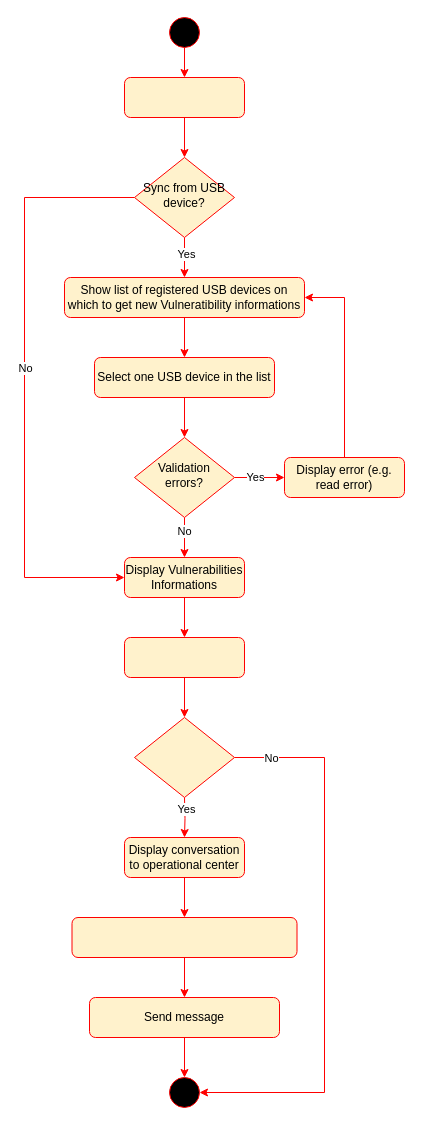
This 422x1125 diagram has some shape labels left out. Here are the shapes that lost their labels. From the top down, the centre of each, then its label:
(184,97): Log in into the app
(184,657): List firmwares of UGVs
(184,757): Notify operational center?
(184,937): Show textbox with content of vulnerability description and severity
